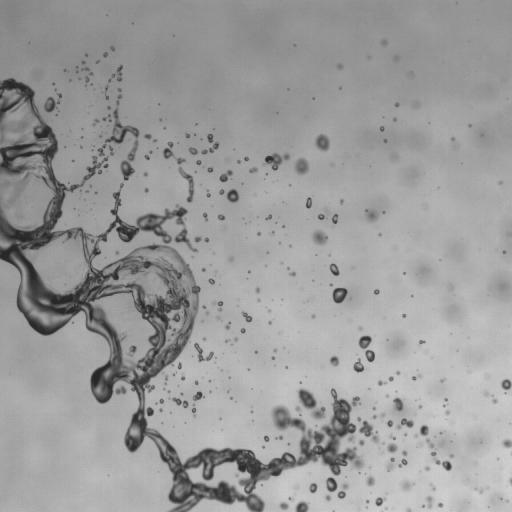droplet: (263, 153, 289, 170), (194, 342, 214, 361), (201, 134, 218, 154), (332, 287, 347, 303), (315, 134, 329, 151), (294, 158, 308, 174), (312, 230, 327, 244), (396, 418, 413, 429), (226, 189, 239, 202), (365, 209, 378, 222), (325, 477, 337, 491), (111, 66, 122, 81), (163, 142, 173, 158), (219, 170, 232, 182), (353, 359, 364, 372), (393, 397, 403, 411), (400, 480, 414, 490), (422, 496, 433, 508), (295, 501, 308, 511), (386, 457, 395, 471), (329, 263, 339, 275), (501, 379, 511, 391), (193, 391, 203, 401), (387, 443, 397, 453), (419, 425, 428, 436), (329, 356, 338, 366), (375, 497, 385, 506), (426, 438, 434, 448), (309, 483, 317, 493), (502, 439, 511, 447), (398, 459, 407, 467), (366, 476, 374, 485), (279, 502, 288, 510), (215, 301, 222, 311), (189, 147, 197, 154), (306, 197, 311, 208), (474, 487, 483, 493), (176, 158, 184, 164), (249, 167, 257, 173), (332, 214, 337, 223), (377, 380, 386, 385), (418, 340, 425, 346), (295, 406, 301, 413), (218, 214, 224, 220), (208, 278, 214, 284), (387, 420, 393, 426), (358, 439, 364, 445), (325, 494, 331, 500), (194, 236, 201, 241), (225, 322, 230, 329), (93, 119, 98, 125), (207, 167, 213, 172), (318, 214, 324, 219), (85, 76, 89, 83), (144, 134, 151, 138), (381, 40, 386, 45), (219, 189, 224, 194), (290, 271, 295, 276), (374, 289, 379, 294), (388, 376, 393, 381), (492, 398, 497, 403), (445, 410, 450, 415), (264, 436, 269, 441), (402, 450, 407, 455), (424, 466, 429, 471), (438, 502, 443, 507), (203, 213, 207, 219), (431, 484, 435, 490), (144, 155, 149, 159), (392, 155, 397, 159), (196, 160, 201, 164), (206, 192, 210, 197), (266, 215, 271, 219), (241, 328, 245, 333), (181, 375, 185, 380), (381, 412, 385, 417), (277, 435, 282, 439), (390, 434, 394, 439), (178, 363, 181, 369), (103, 52, 107, 56), (338, 64, 342, 68), (395, 102, 399, 106), (185, 133, 189, 137), (244, 157, 248, 161), (144, 188, 148, 192), (229, 257, 233, 261), (255, 288, 259, 292), (358, 326, 362, 330), (159, 399, 163, 403), (294, 485, 298, 489), (289, 497, 293, 501), (83, 67, 88, 70), (120, 183, 123, 188), (204, 238, 209, 241), (406, 508, 411, 511), (111, 46, 114, 50), (89, 71, 92, 75), (380, 126, 383, 130), (144, 172, 147, 176), (311, 315, 315, 318), (372, 415, 376, 418), (414, 434, 418, 437), (105, 87, 108, 90), (415, 104, 418, 107), (451, 137, 454, 140), (340, 200, 343, 203), (217, 316, 220, 319), (226, 339, 229, 342), (234, 338, 237, 341), (396, 371, 399, 374), (195, 381, 198, 384), (484, 392, 487, 395), (159, 408, 162, 411), (366, 500, 369, 503), (274, 348, 276, 352), (108, 79, 111, 81), (118, 88, 120, 91), (393, 118, 396, 120), (271, 231, 273, 234), (116, 251, 118, 254), (503, 250, 505, 253), (202, 268, 204, 271), (158, 287, 160, 290), (403, 314, 405, 317), (203, 337, 205, 340), (272, 356, 274, 359), (441, 379, 444, 381), (419, 405, 421, 408), (372, 407, 375, 409), (450, 454, 452, 457), (82, 61, 84, 63), (238, 161, 240, 163), (499, 182, 501, 184), (330, 284, 332, 286), (258, 299, 260, 301), (203, 306, 205, 308), (206, 311, 208, 313), (268, 310, 270, 312), (269, 321, 271, 323), (165, 376, 167, 378), (445, 399, 447, 401), (262, 446, 264, 448)
ligament: (0, 80, 377, 511), (297, 388, 325, 418), (178, 166, 194, 202), (429, 451, 451, 471), (358, 335, 374, 362), (44, 93, 61, 112), (171, 397, 188, 407), (337, 483, 348, 498), (241, 312, 252, 322), (116, 94, 121, 104), (412, 374, 420, 380), (0, 181, 9, 186), (109, 146, 113, 155), (192, 408, 195, 415), (509, 477, 511, 485)
